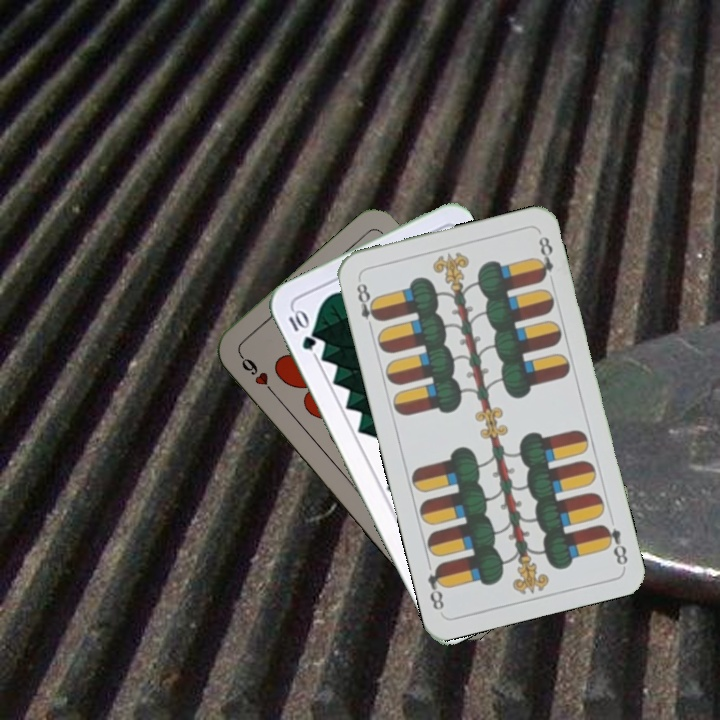E8: (352, 275, 383, 333), (597, 520, 631, 568)
G10: (284, 305, 319, 353)
H9: (235, 350, 279, 399)
